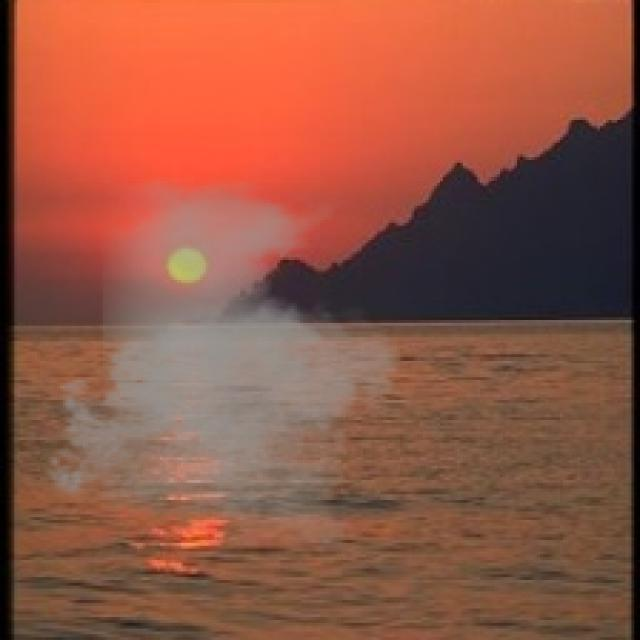Smoke: (34, 177, 414, 546)
